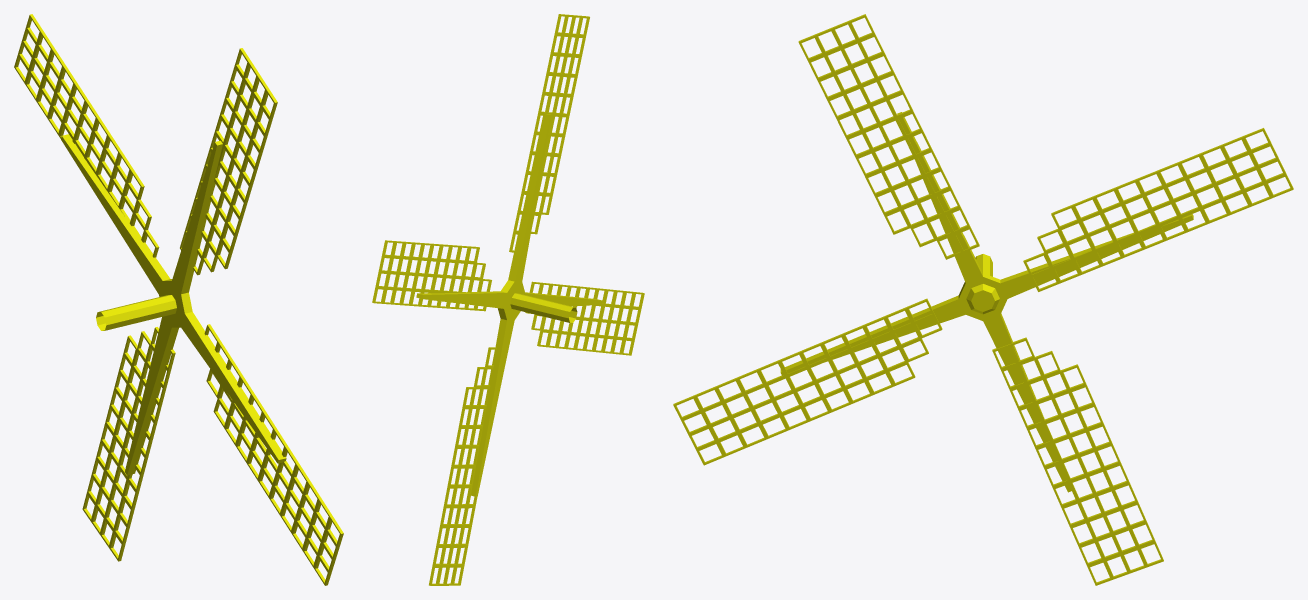
Rendered from Windmill_Wind.fbx.
The picture shows the model from 3 angles, left to right: view 1: azimuth 30°, elevation 25°; view 2: azimuth 150°, elevation 25°; view 3: azimuth 270°, elevation 25°; orthographic projection. The views are drawn at different scales.
Parts seen in each view (by area): view 1: polySurface711; view 2: polySurface711; view 3: polySurface711.
Boxes of the visible parts, x1=… form: polySurface711: x1=14, y1=14, x2=343, y2=585; polySurface711: x1=372, y1=14, x2=644, y2=585; polySurface711: x1=673, y1=14, x2=1293, y2=585.
Bounding box in the file's own units: 61.61 × 427 × 420.
